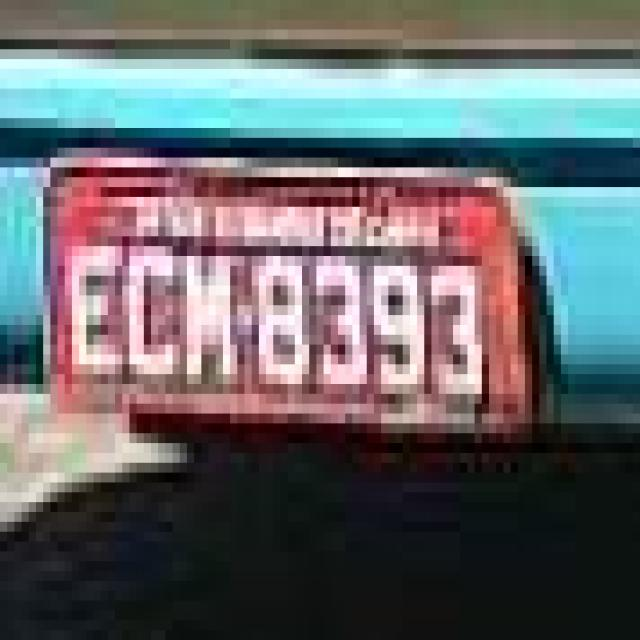3: (310, 251, 370, 403), (429, 255, 484, 418)
8: (251, 252, 313, 394)
9: (366, 256, 432, 402)
C: (125, 241, 187, 392)
E: (68, 248, 122, 389)
M: (181, 242, 246, 384)
